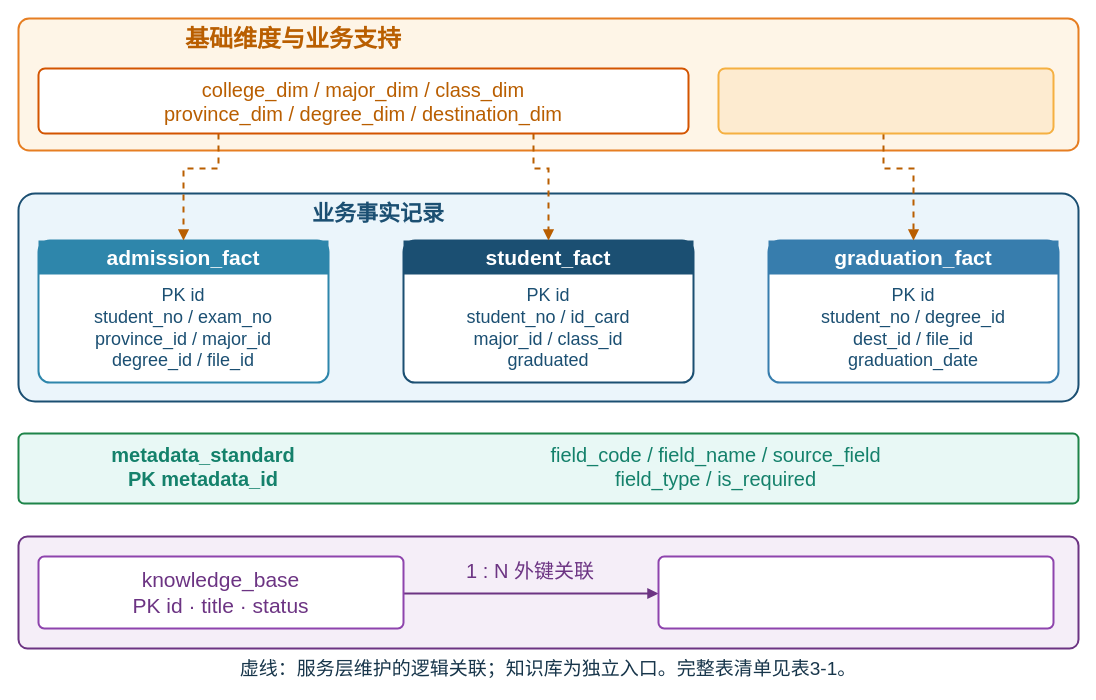
Image size: 1096x700. Some labels were removed from this diagram. The shapes that lost their labels are listed below. From the top down, each one's centre as x and y in pixels, then its label:
At [885,100]: "archive_file_dim 来源文件".
At [855,592]: "knowledge_chunks PK id · FK kb_id · vector(1024)".
